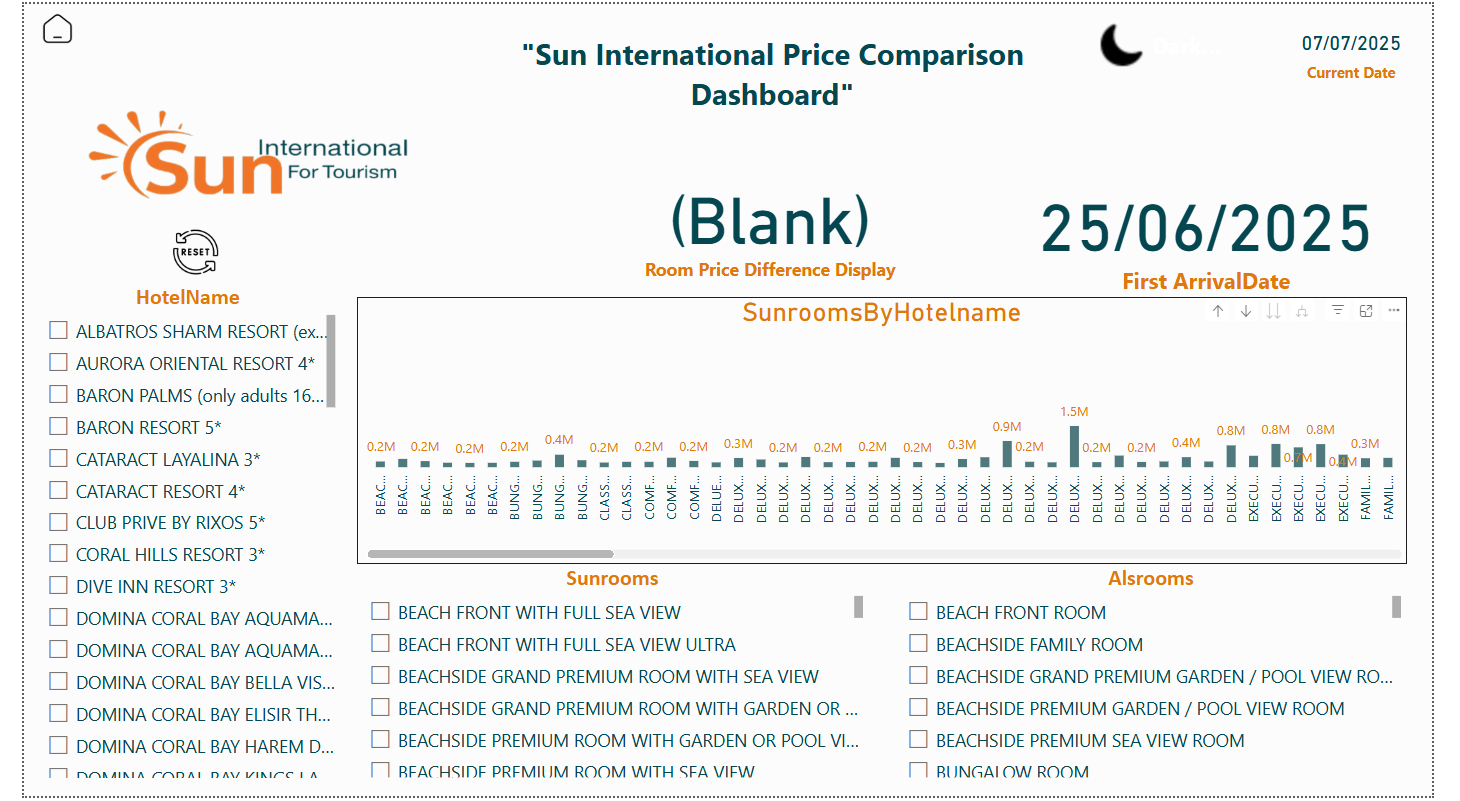

The dashboard page shown, as its layout file describes it:
{"tool":"powerbi","page":{"name":"Dashboard(Light Mode)","canvas":[1280,720],"ordinal":2},"visuals":[{"type":"textbox","box":[435.6,22.2,489.8,88],"z":0},{"type":"slicer","title":"HotelName","fields":{"Values":["Data(Dim).HotelName"]},"box":[10,253.6,278.2,454.5],"z":1000},{"type":"slicer","title":"Sunrooms","fields":{"Values":["Sunrooms.RoomType"]},"box":[302.7,509.1,464.5,199.1],"z":2000},{"type":"columnChart","title":"SunroomsByHotelname","fields":{"Category":["Sunrooms.HotelName","Sunrooms.RoomType"],"Y":["Sum(Sunrooms.SunRoomPrice)"]},"box":[302.7,266.4,954.5,242.7],"z":3000},{"type":"slicer","title":"Alsrooms","fields":{"Values":["Alsrooms.RoomType"]},"box":[791.8,509.1,465.5,199.1],"z":4000},{"type":"card","fields":{"Values":["Measures_Table.Room Price Difference Display"]},"box":[477.3,133.6,401.8,131.8],"z":5000},{"type":"card","fields":{"Values":["Min(Data(Dim).ArrivalDate)"]},"box":[907.6,143.1,335.1,131.6],"z":6000},{"type":"card","fields":{"Values":["Measures_Table.Current Date"]},"box":[1137.8,13.3,136.9,62.2],"z":7000},{"type":"image","box":[124.5,200,62.7,50.9],"z":8000},{"type":"image","box":[10,0,40.9,45.5],"z":9000},{"type":"image","box":[42.7,35.5,350.9,201.8],"z":10000},{"type":"actionButton","title":"Dark Mode","box":[970,2.7,138.2,63.6],"z":10001}]}

Visuals, with their boxes in screenshot pixels (x1, y1, x2, y2), scaled from the page's 1280x720 canvas onto the 1460x801 screenshot:
textbox: region(497, 25, 1056, 123)
"HotelName" slicer: region(11, 282, 329, 788)
"Sunrooms" slicer: region(345, 566, 875, 788)
"SunroomsByHotelname" columnChart: region(345, 296, 1434, 566)
"Alsrooms" slicer: region(903, 566, 1434, 788)
card - Measures_Table.Room Price Difference Display: region(544, 149, 1003, 295)
card - Min(Data(Dim).ArrivalDate): region(1035, 159, 1417, 306)
card - Measures_Table.Current Date: region(1298, 15, 1454, 84)
image: region(142, 222, 214, 279)
image: region(11, 0, 58, 51)
image: region(49, 39, 449, 264)
"Dark Mode" actionButton: region(1106, 3, 1264, 74)
